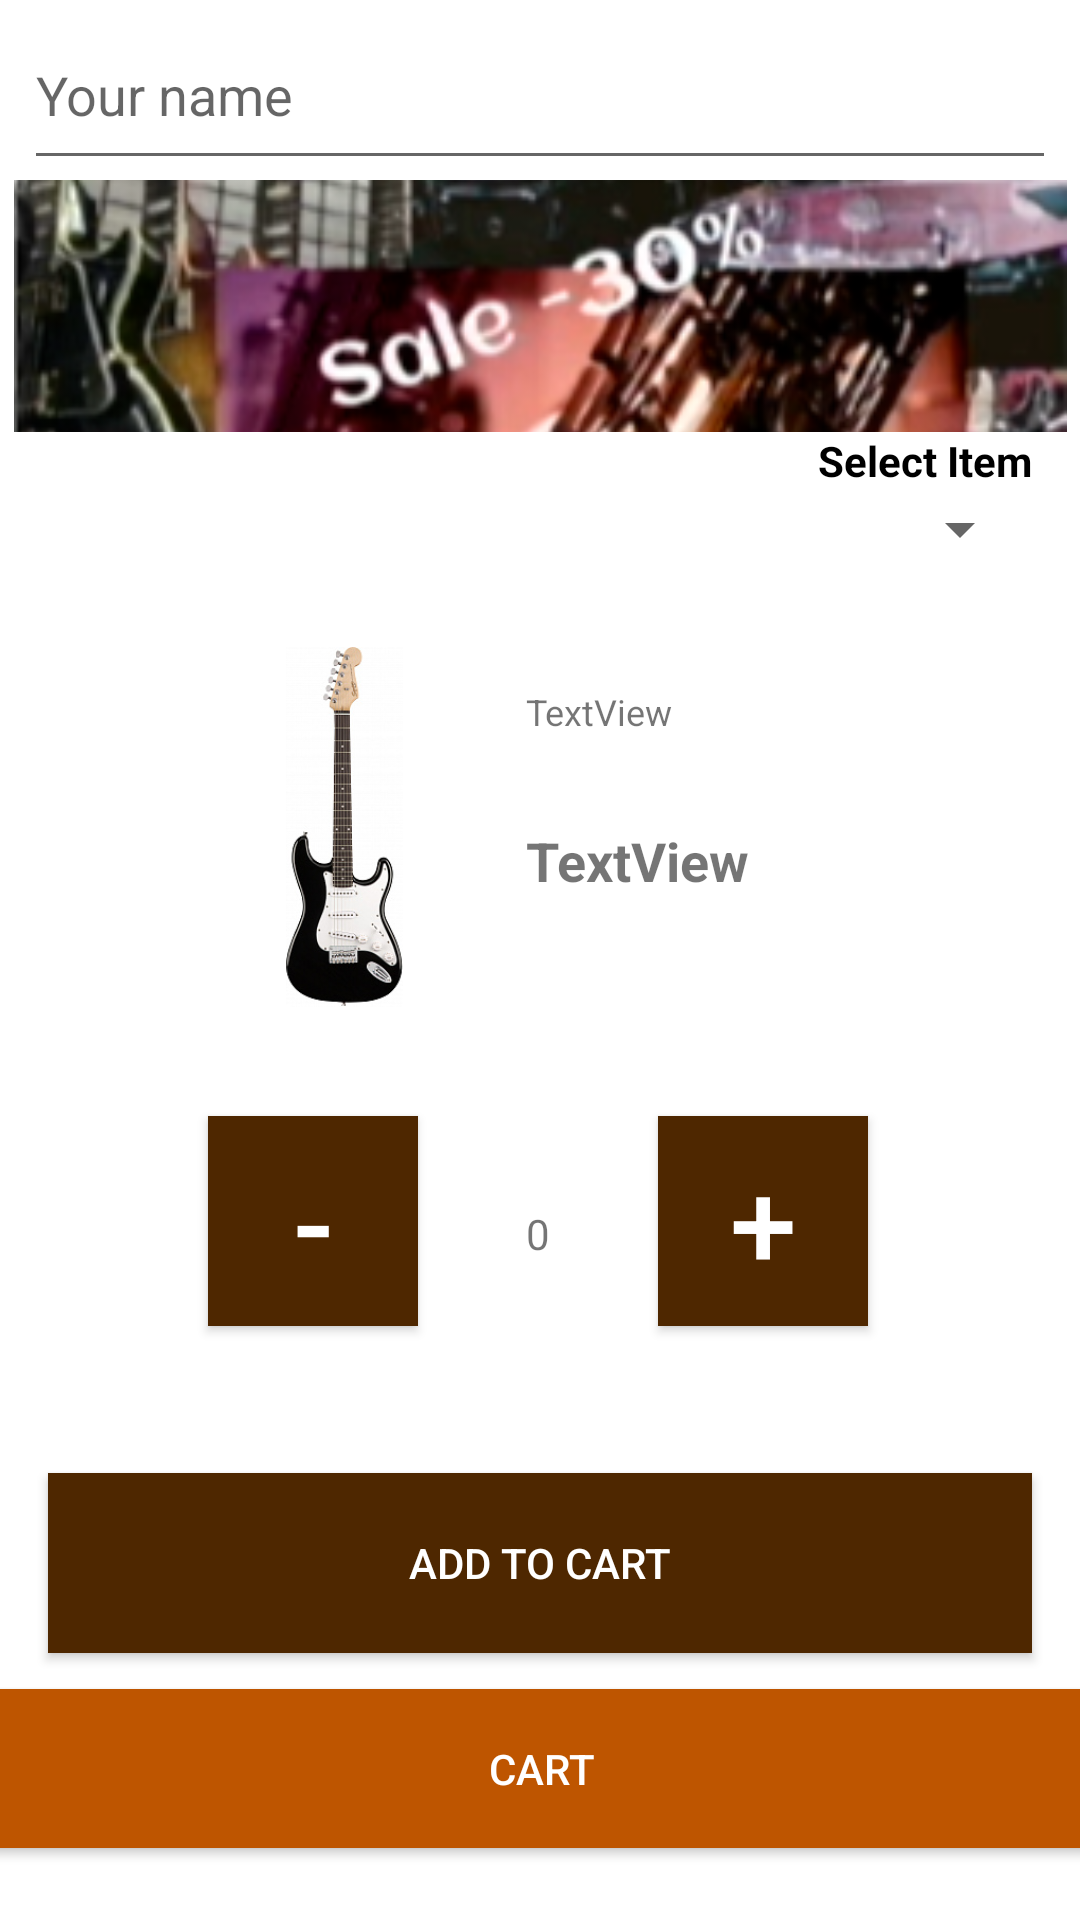

Named icons in this screenshot (1080w x 1920h) and their centers, [x,y]:
fender stratocaster: [344,826]
